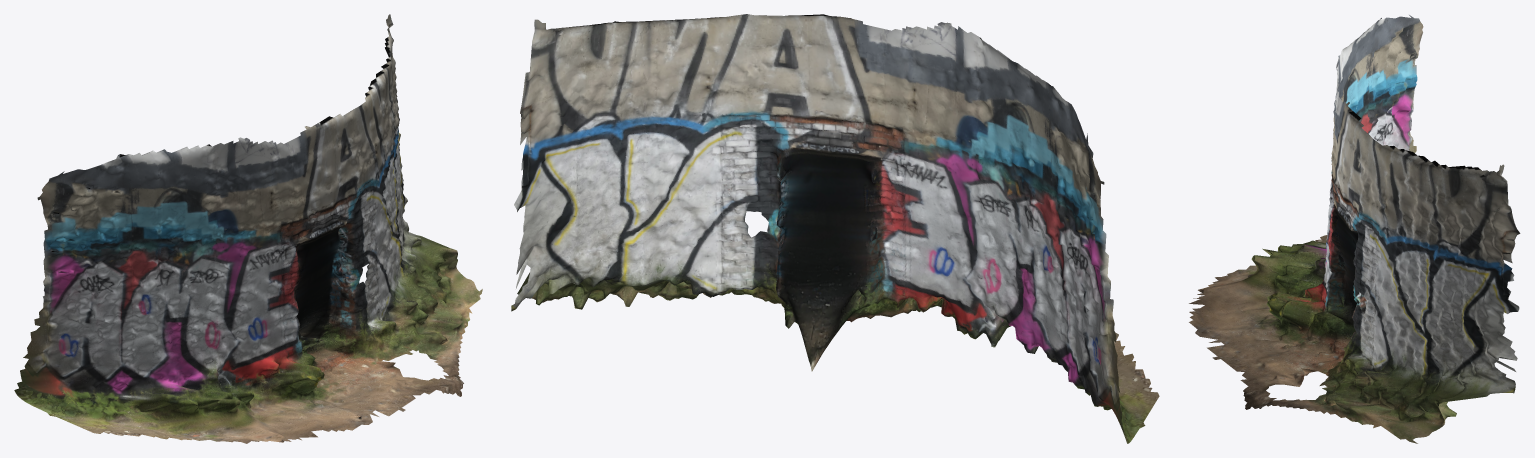
The model's file is wall_3.obj.
The picture shows the model from 3 angles, left to right: view 1: azimuth 30°, elevation 25°; view 2: azimuth 150°, elevation 25°; view 3: azimuth 270°, elevation 25°; orthographic projection. The views are drawn at different scales.
Visible parts, largest first — view 1: Default; view 2: Default; view 3: Default.
Boxes of the visible parts, x1,y1,x2,y2 form: Default: (14,14,482,443); Default: (511,14,1159,443); Default: (1189,15,1520,443).
Bounding box in the file's own units: 30.26 × 17.06 × 18.84.
